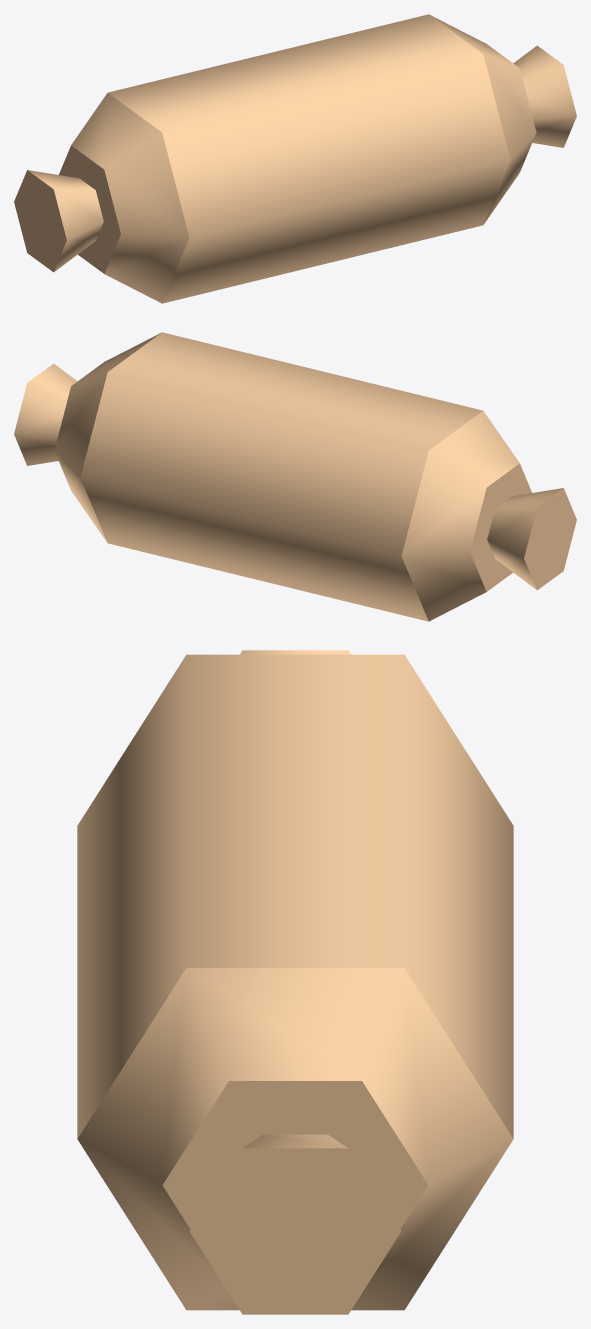
Rendered from sausage.GLB.
The picture shows the model from 3 angles, top to bottom: view 1: azimuth 30°, elevation 25°; view 2: azimuth 150°, elevation 25°; view 3: azimuth 270°, elevation 25°; orthographic projection. The views are drawn at different scales.
Parts seen in each view (by area): view 1: sausage; view 2: sausage; view 3: sausage.
Boxes of the visible parts, box(x1,y1,x2,y2) form: sausage: box(14, 14, 576, 303); sausage: box(14, 332, 576, 621); sausage: box(77, 650, 513, 1314).
Size of the model in its own units: 0.3707 by 0.1189 by 0.1373.
